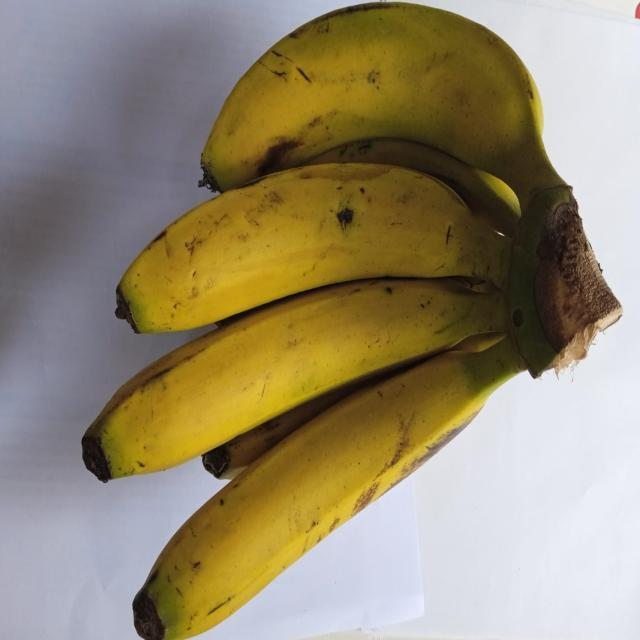banana: (134, 339, 522, 639), (83, 279, 508, 481), (201, 3, 564, 210), (117, 163, 510, 332), (307, 138, 521, 237), (203, 380, 379, 479), (202, 380, 372, 479)
